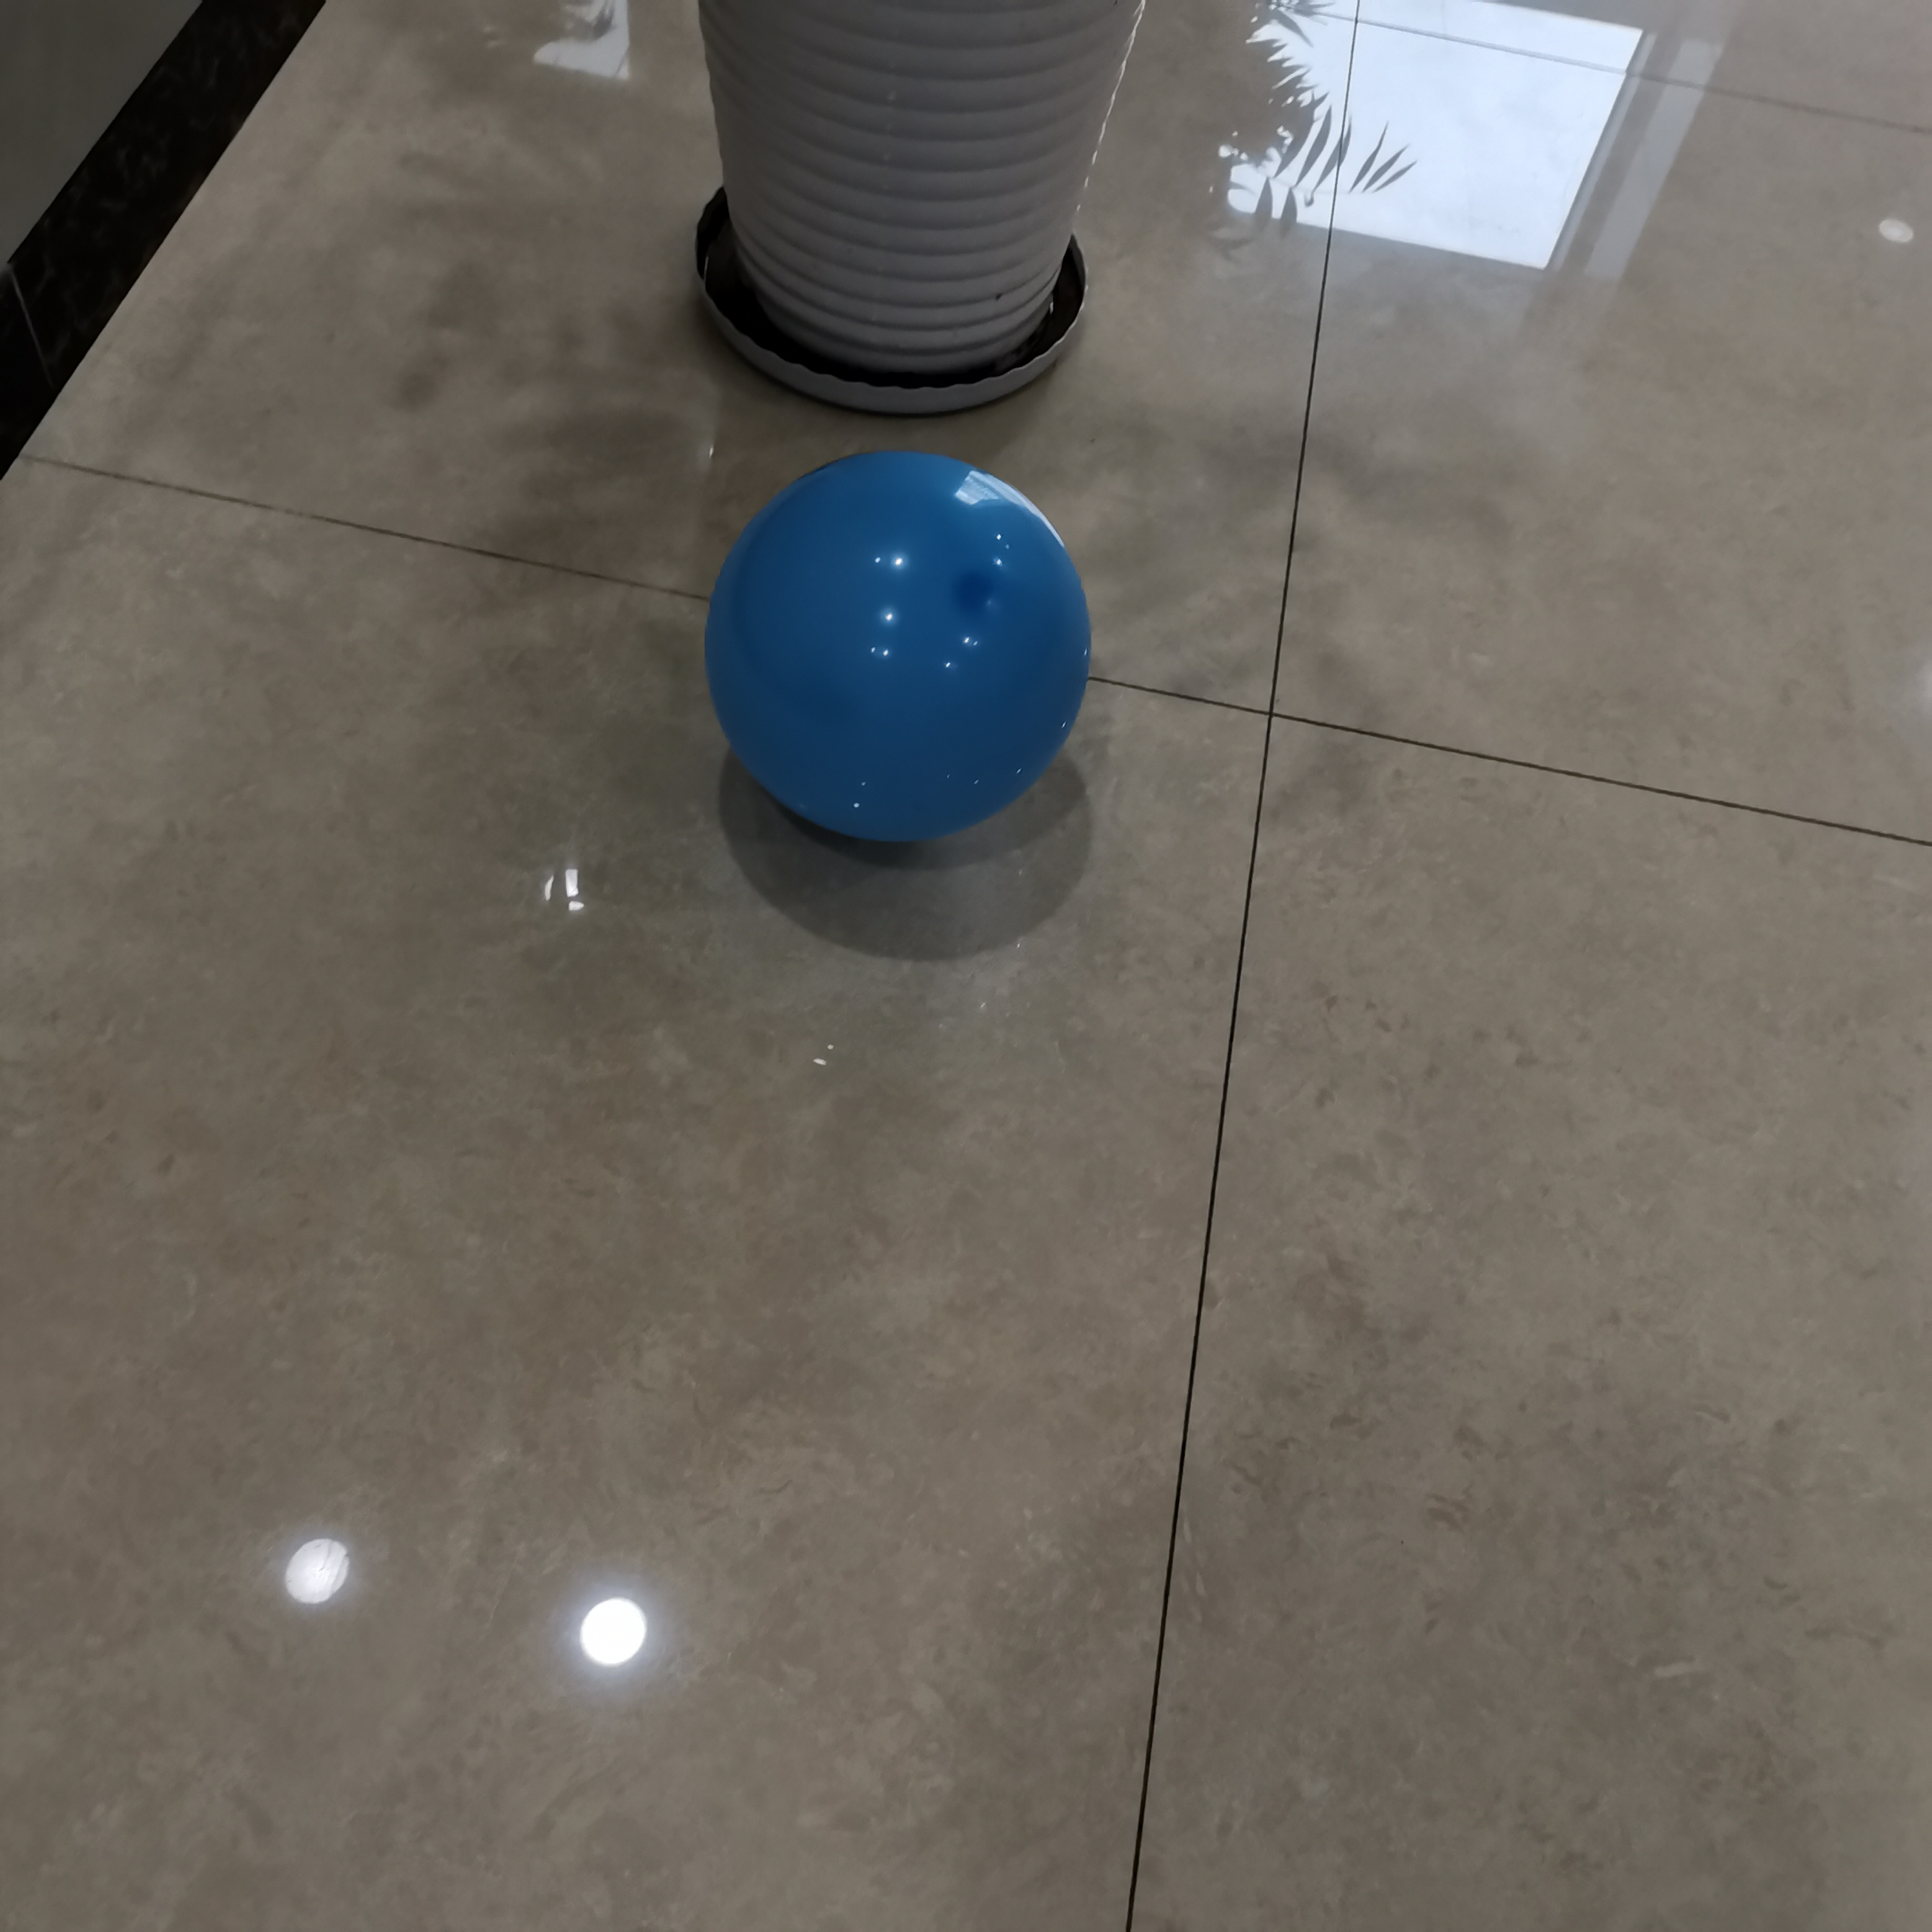balloon: (704, 451, 1093, 844)
